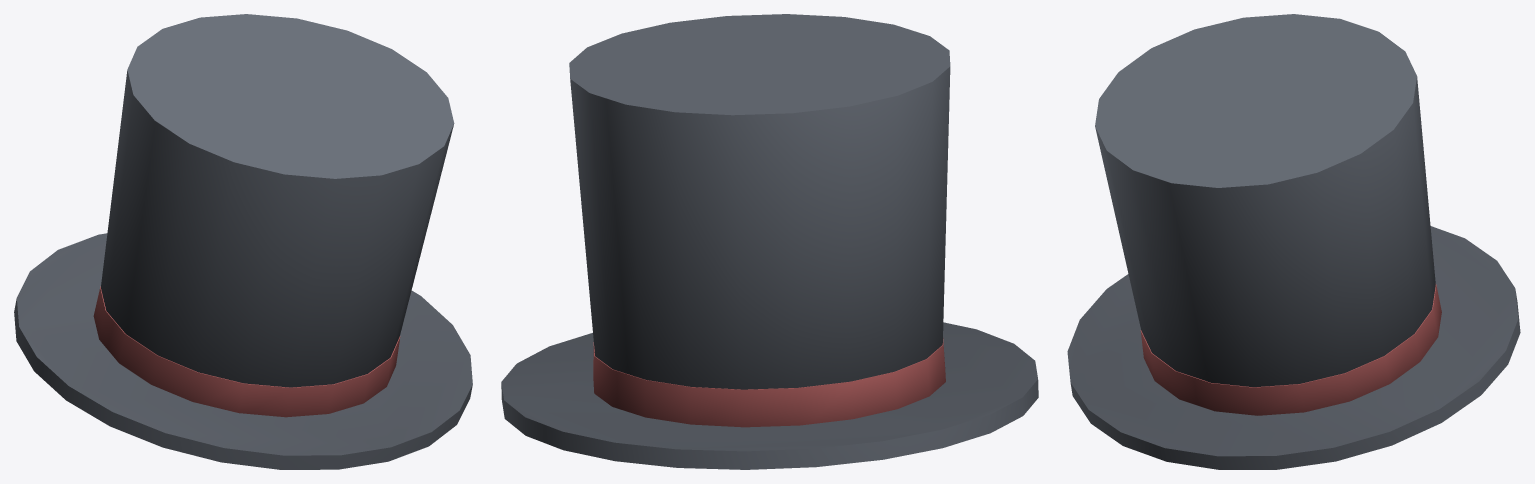
The model's file is tuxedo_head.fbx.
3 renders of one model, left to right at view 1: azimuth 30°, elevation 25°; view 2: azimuth 150°, elevation 25°; view 3: azimuth 270°, elevation 25°, orthographic. The views are drawn at different scales.
Parts seen in each view (by area): view 1: tuxedo_head; view 2: tuxedo_head; view 3: tuxedo_head.
Boxes of the visible parts, bbox=[...] form: tuxedo_head: bbox=[14, 14, 472, 469]; tuxedo_head: bbox=[501, 14, 1038, 469]; tuxedo_head: bbox=[1067, 14, 1520, 469].
Size of the model in its own units: 1.11 by 0.8758 by 1.11.
